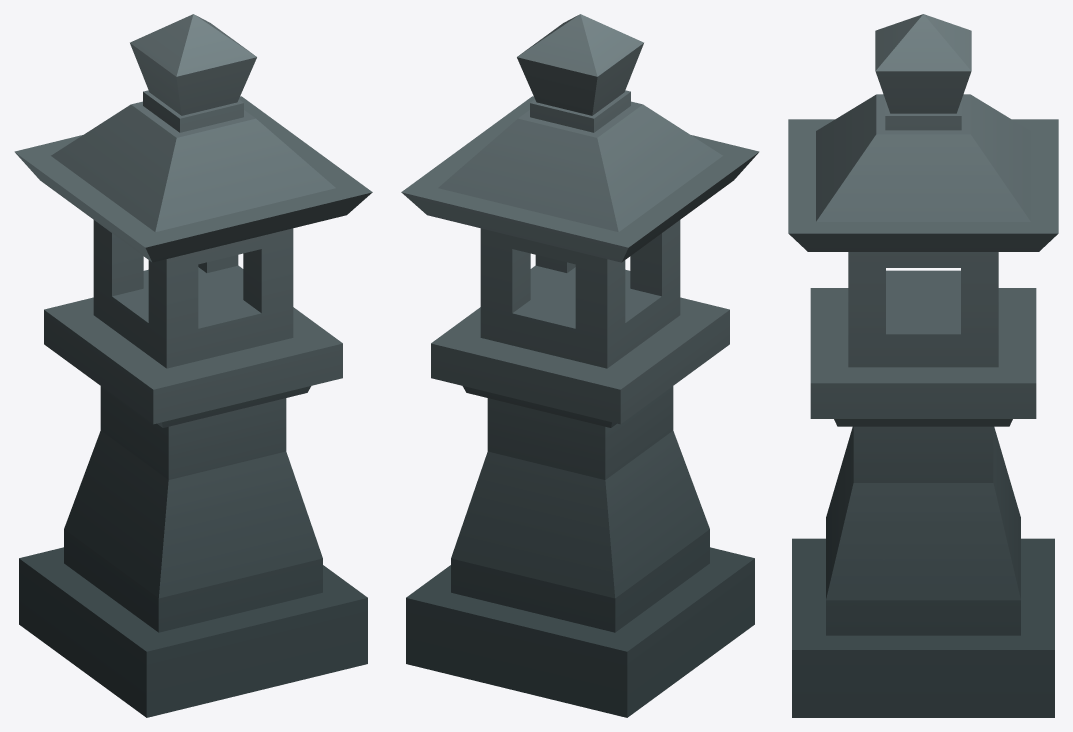
File: StoneLantern.fbx
3 renders of one model, left to right at view 1: azimuth 30°, elevation 25°; view 2: azimuth 150°, elevation 25°; view 3: azimuth 270°, elevation 25°, orthographic. The views are drawn at different scales.
Visible parts, largest first — view 1: StoneLantern; view 2: StoneLantern; view 3: StoneLantern.
Boxes of the visible parts, x1,y1,x2,y2 form: StoneLantern: (14,14,372,717); StoneLantern: (401,14,759,717); StoneLantern: (788,14,1058,717).
Size of the model in its own units: 0.6472 by 1.71 by 0.6472.
Materials: 1 (1 with a texture image).
